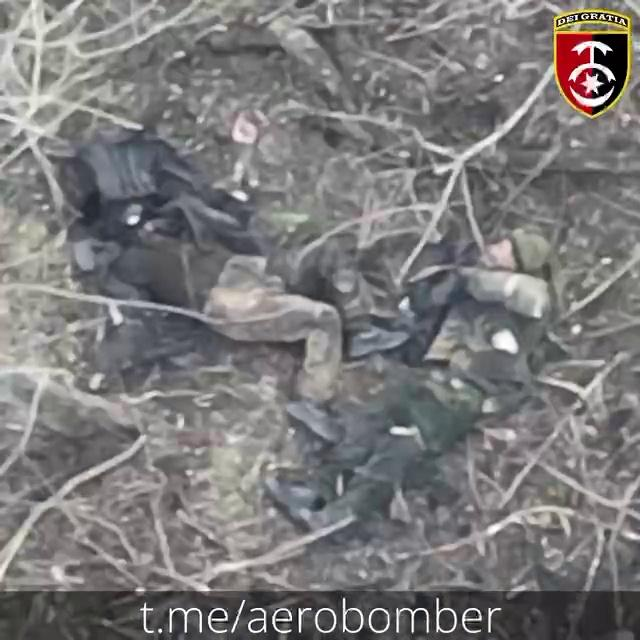person: (61, 92, 412, 442), (262, 230, 554, 552)
